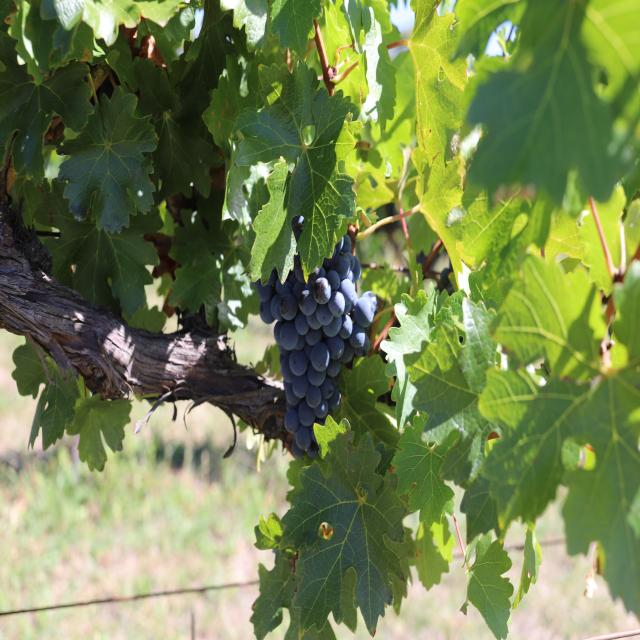grapes: (253, 234, 378, 458)
